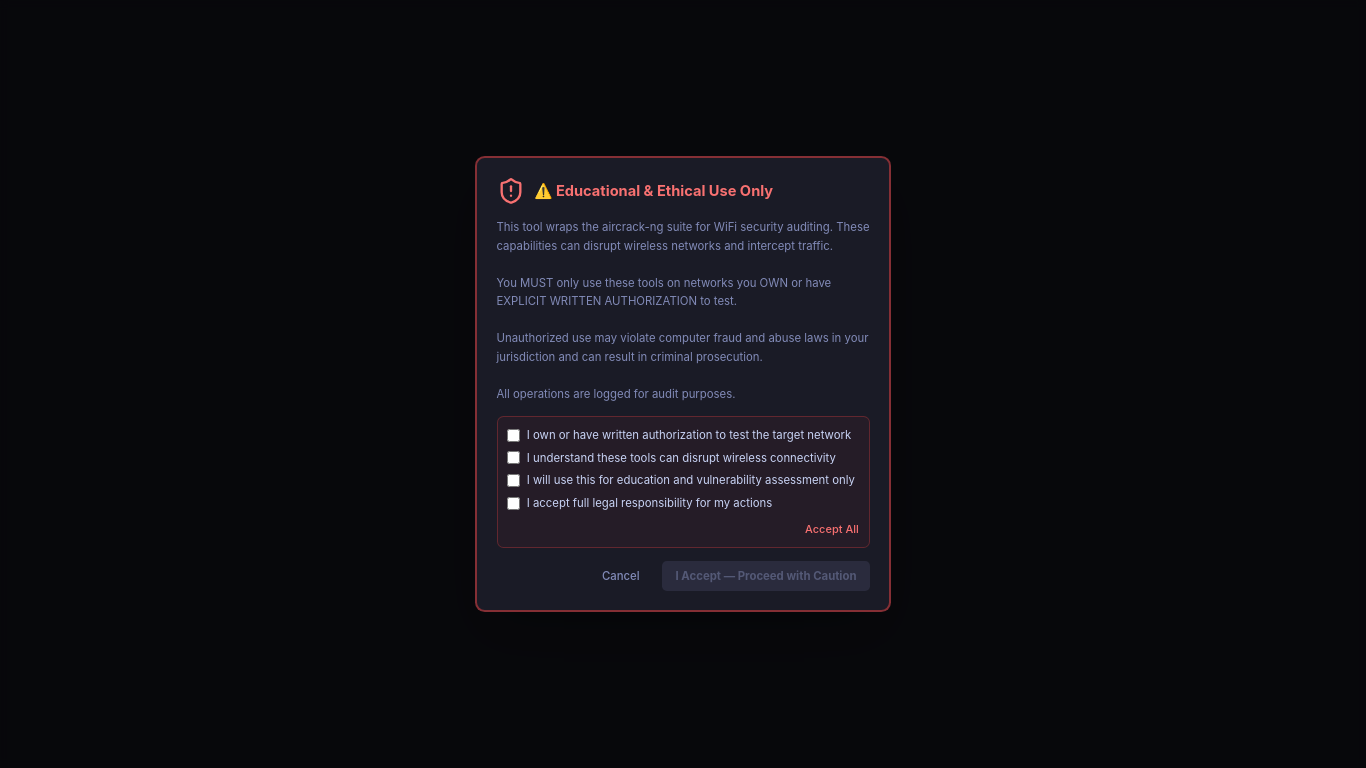
AircrackPanel › accepting the disclaimer reveals the panel with tabs and tool status badges
Expected: the heading "⚠️ Educational & Ethical Use Only" is shown, [534,180,773,203]
Click the 1st checkbox at (514, 435), box [507,428,520,442]
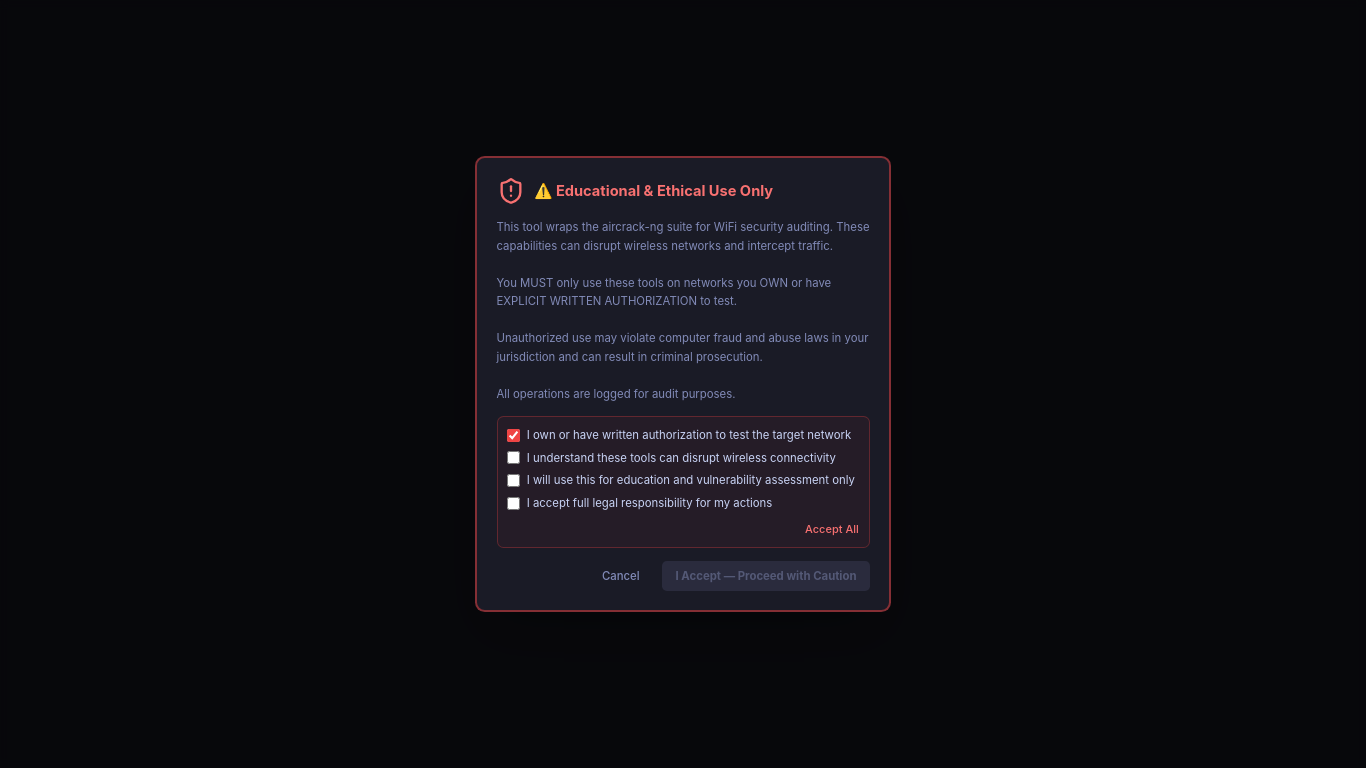
Click the checkbox labelled "I understand these tools can disrupt wireless connectivity" at (514, 458), box [507,451,520,464]
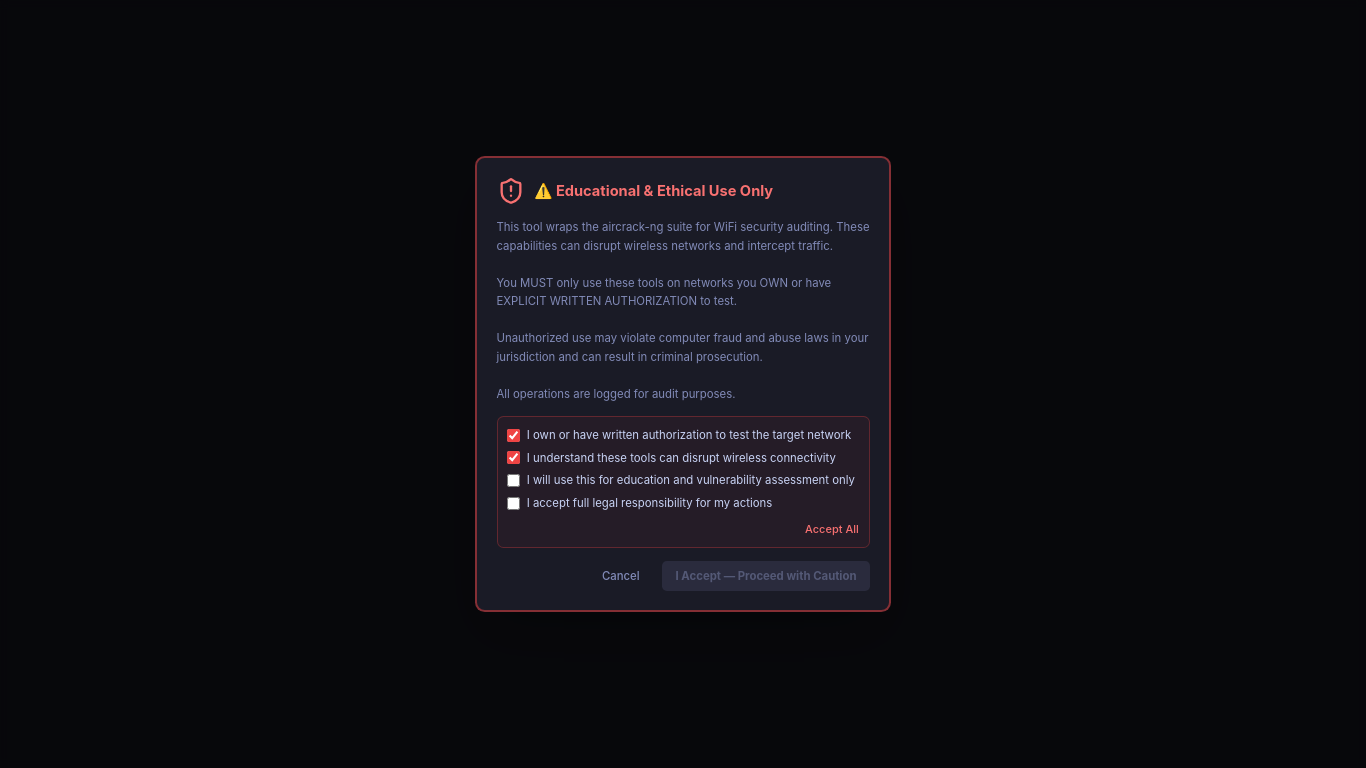
Click the 3rd checkbox at (514, 480), box [507,474,520,487]
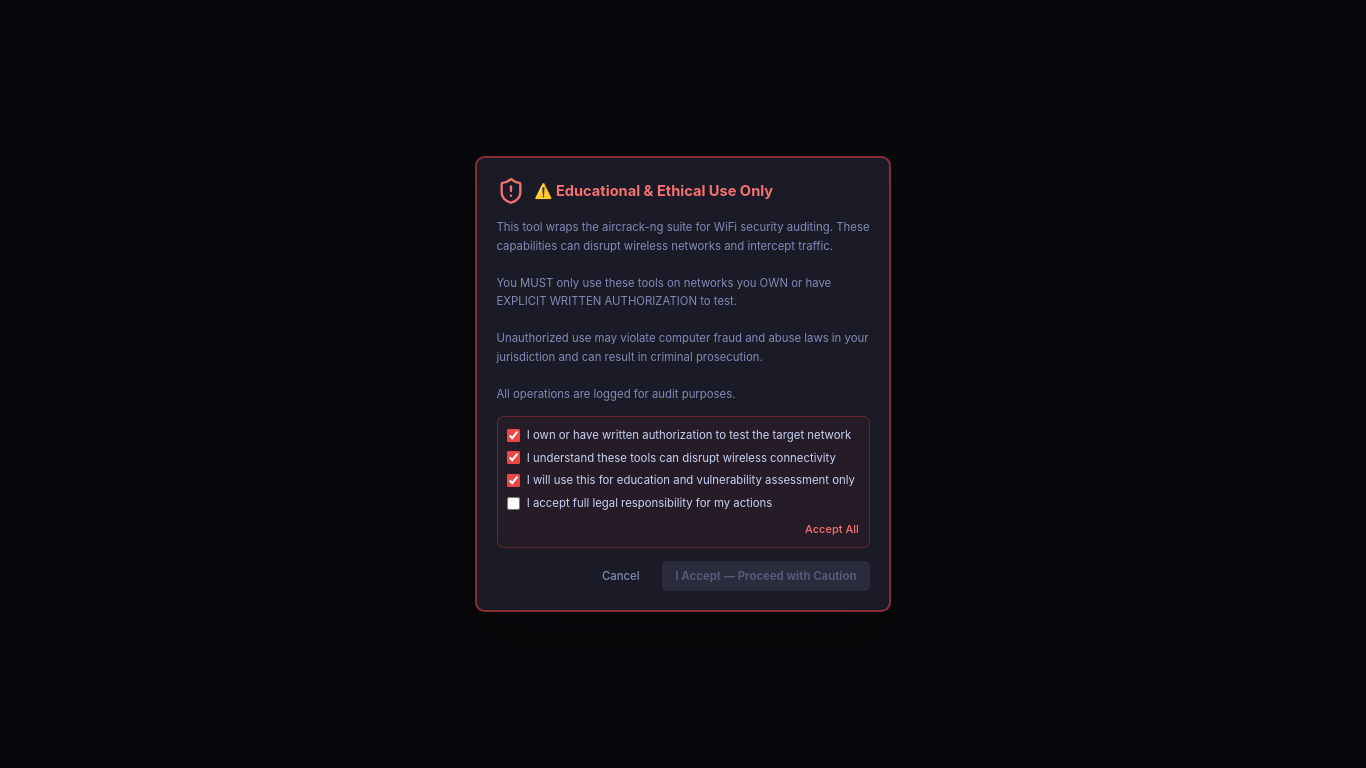
Click the checkbox labelled "I accept full legal responsibility for my actions" at (514, 503), box [507,497,520,510]
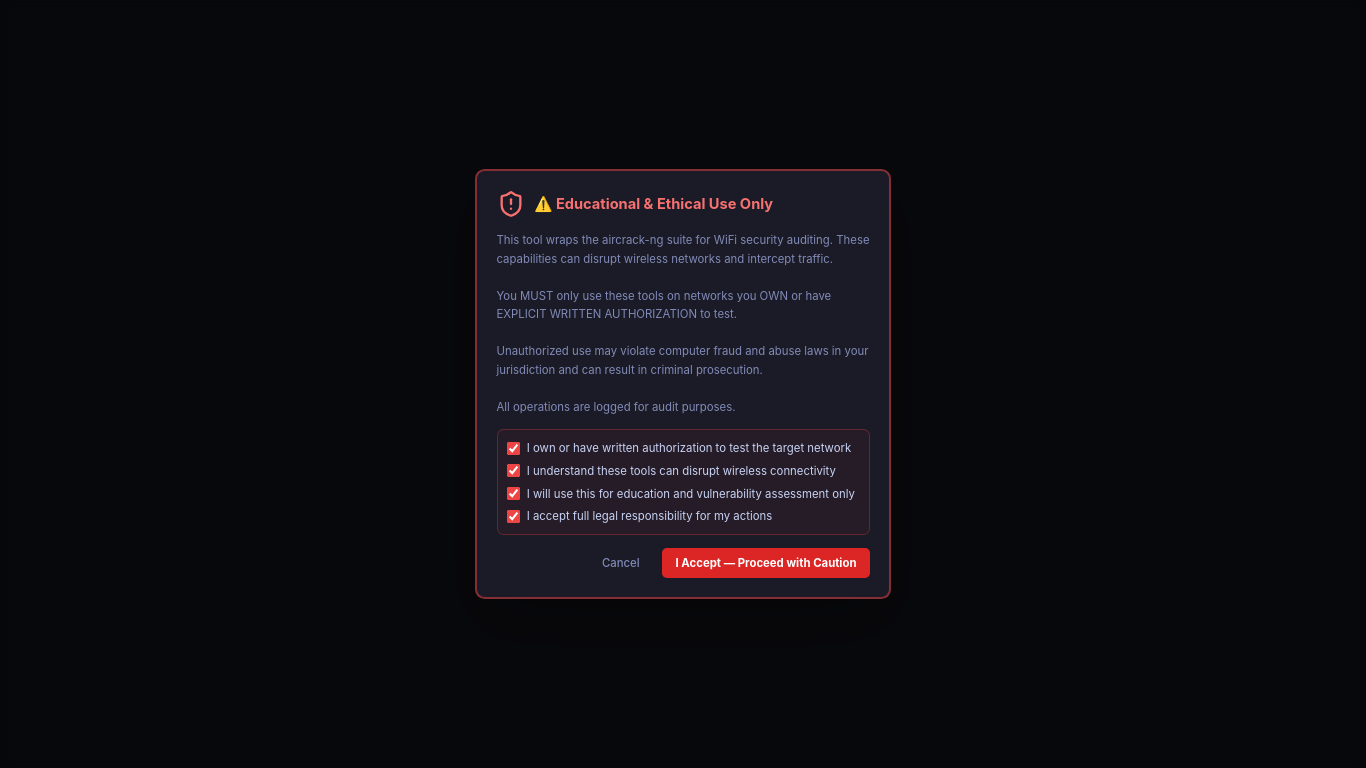
Click the button "I Accept — Proceed with Caution" at (766, 563), box [662,548,870,578]
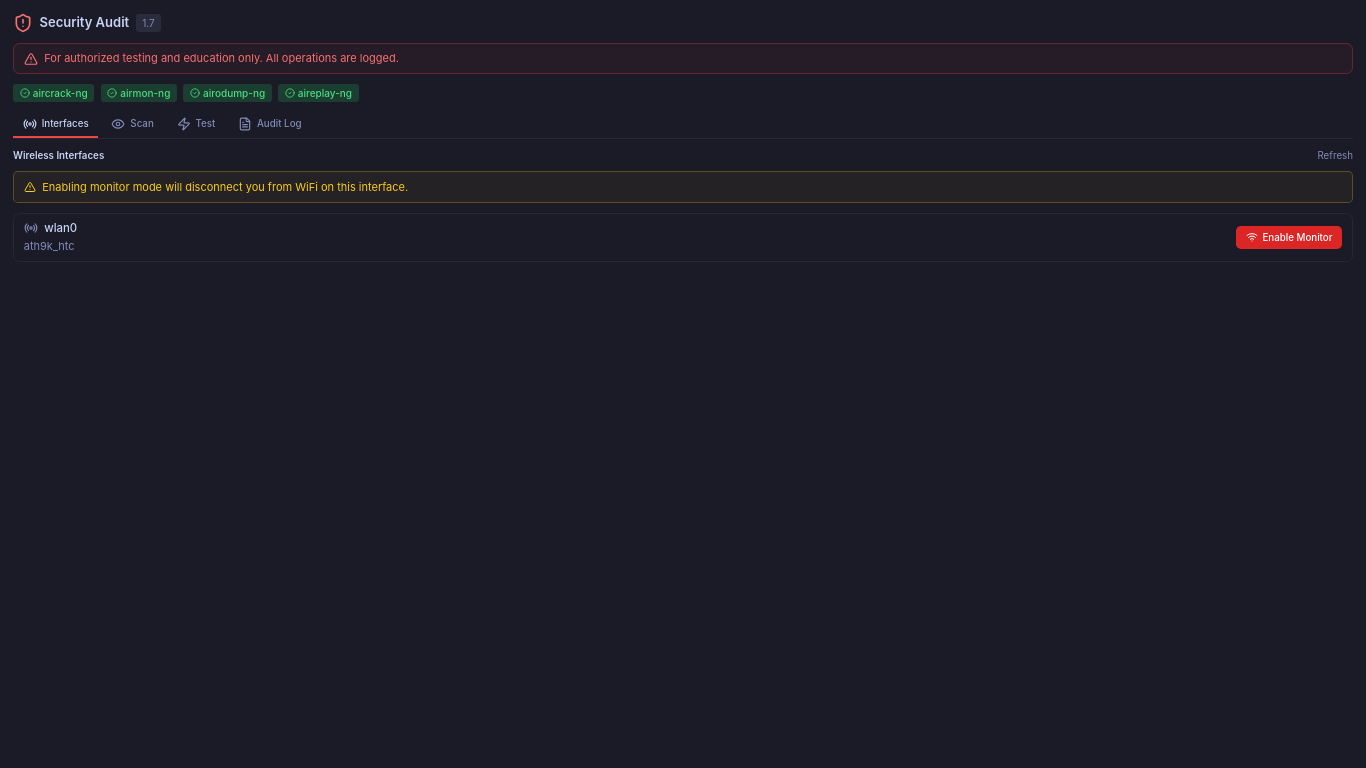
Expected: the text "1.7" is shown, [136,14,161,32]
Expected: the button "Interfaces" is shown, [13,112,98,138]
Expected: the button "Scan" is shown, [102,112,164,138]
